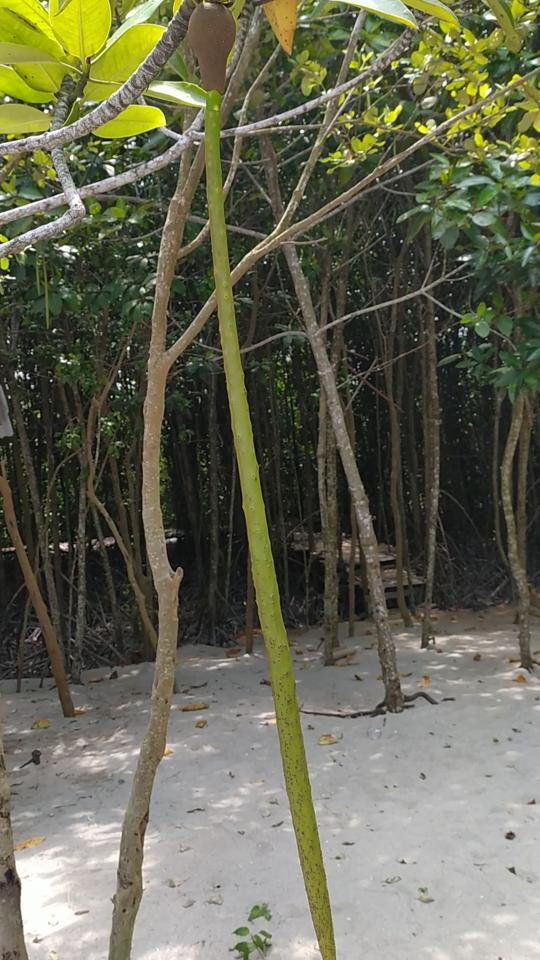mentah: (156, 1, 354, 959)
